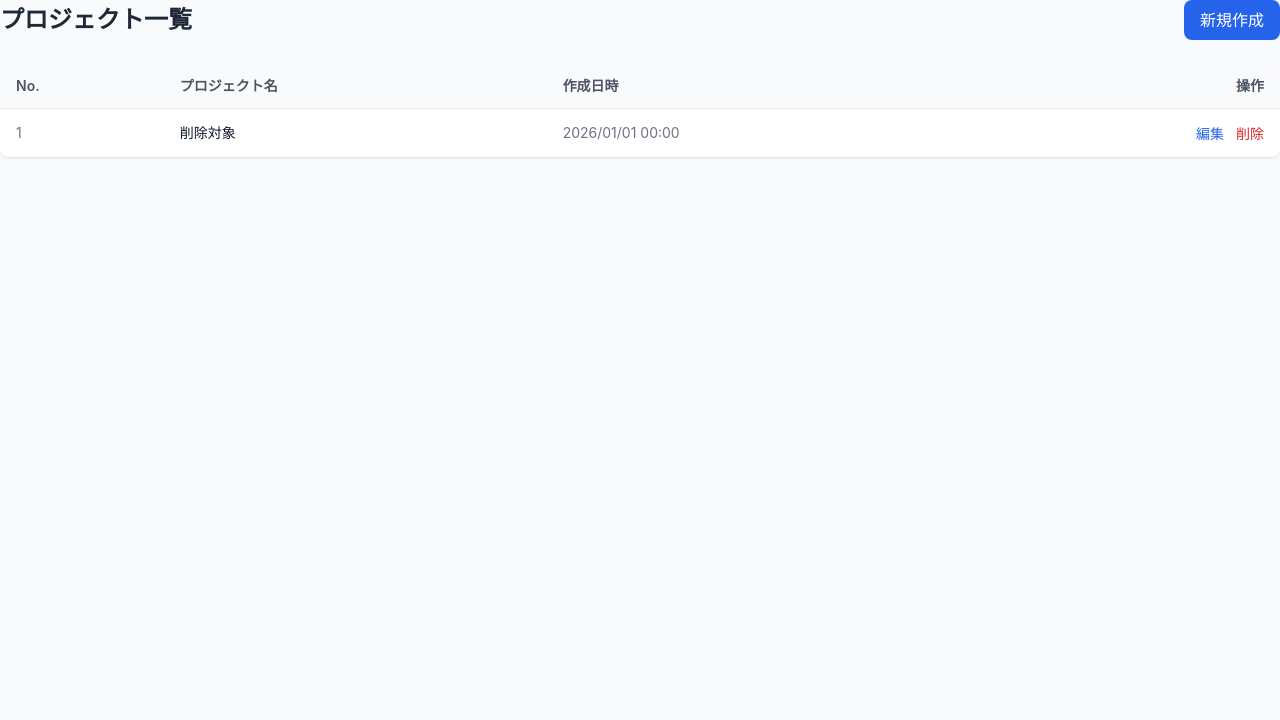
Scenario: ProjectList › 削除確認ダイアログが表示される
This screenshot has width=1280, height=720.
Expected: the text "削除対象" is shown, 164,108 -> 547,157
Click the button "削除". click: point(1250, 134)
box: 1236,124 -> 1264,144
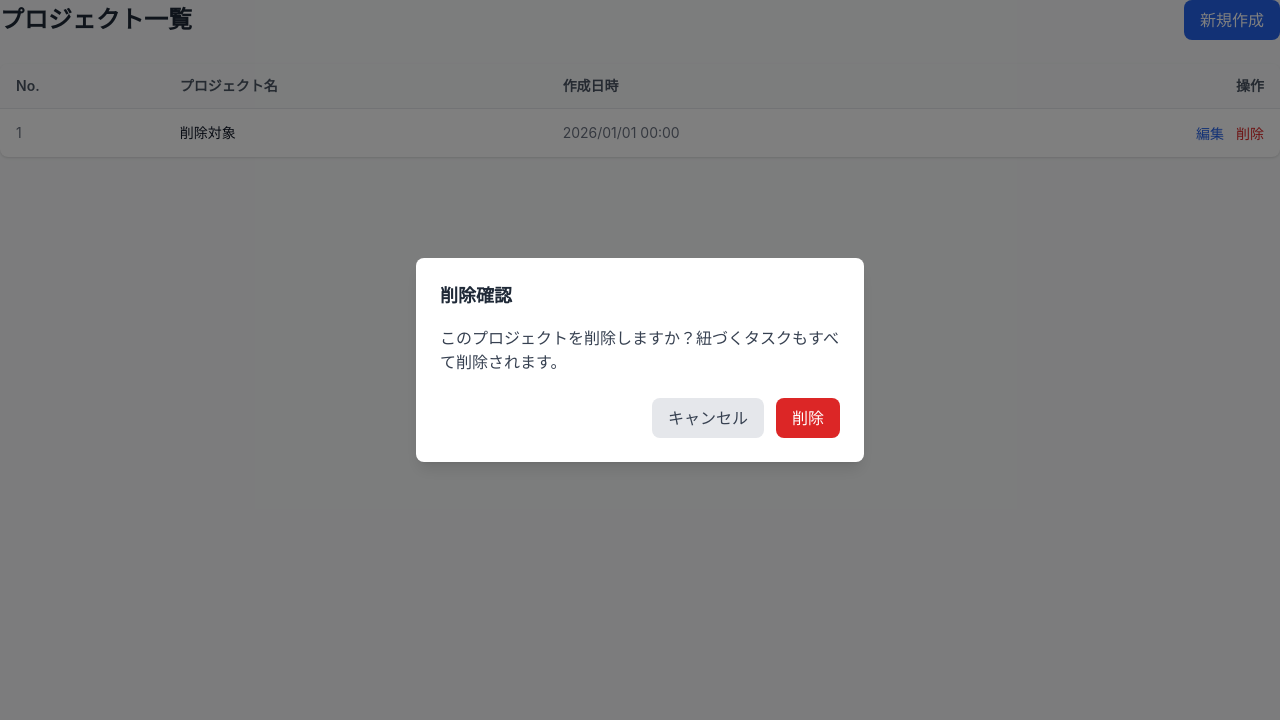
Expected: the text "このプロジェクトを削除しますか？紐づくタスクもすべて削除されます。" is shown, 440,326 -> 840,374
